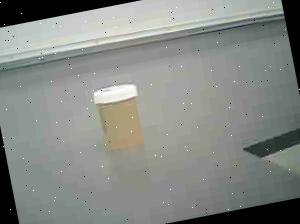Bottle B: (83, 74, 157, 160)
